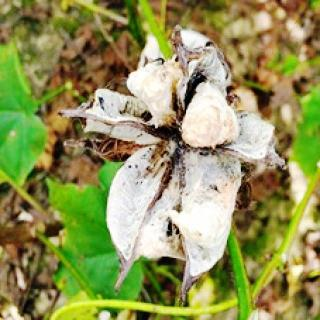leaf spot: (86, 31, 288, 275)
